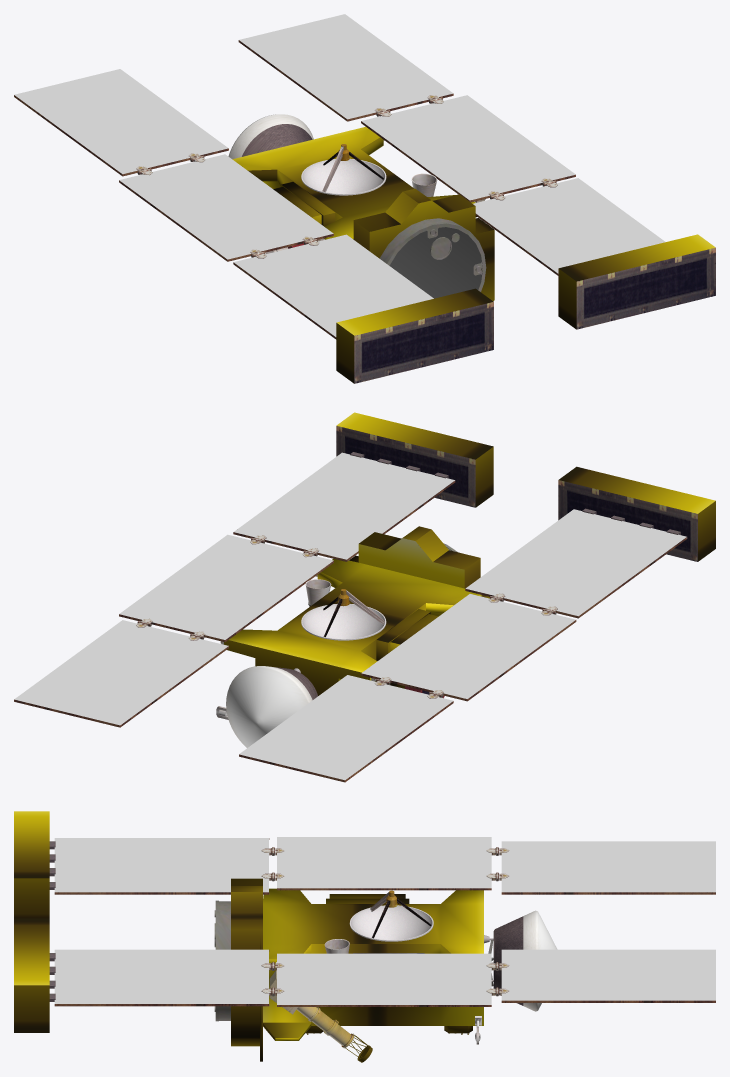
The model's file is Stardust capsule closed.glb.
3 renders of one model, top to bottom at view 1: azimuth 30°, elevation 25°; view 2: azimuth 150°, elevation 25°; view 3: azimuth 270°, elevation 25°, orthographic.
Parts seen in each view (by area): view 1: shiny_panels, Stardust_tex_01, gold_foil2, gold_foil, foil_silver, Stardust_tex_03, Stardust_tex_02, Stardust_tex_01_c, Stardust_tex_01_c2; view 2: shiny_panels, gold_foil, Stardust_tex_01, gold_foil2, Stardust_tex_01_c2, Stardust_tex_03; view 3: shiny_panels, gold_foil, gold_foil2, Stardust_tex_01, Stardust_tex_03, Stardust_tex_02, Stardust_tex_01_c, Stardust_tex_01_c2.
Part boxes in pixels (left/top/right/bottom): shiny_panels: left=14, top=14, right=665, bottom=336; Stardust_tex_01: left=14, top=40, right=715, bottom=383; gold_foil2: left=273, top=182, right=715, bottom=383; gold_foil: left=232, top=126, right=494, bottom=301; foil_silver: left=389, top=227, right=481, bottom=298; Stardust_tex_03: left=301, top=144, right=386, bottom=195; Stardust_tex_02: left=288, top=218, right=486, bottom=291; Stardust_tex_01_c: left=242, top=124, right=312, bottom=156; Stardust_tex_01_c2: left=228, top=114, right=313, bottom=159; shiny_panels: left=14, top=452, right=686, bottom=780; gold_foil: left=224, top=538, right=481, bottom=695; Stardust_tex_01: left=14, top=426, right=697, bottom=782; gold_foil2: left=336, top=412, right=715, bottom=660; Stardust_tex_01_c2: left=226, top=666, right=312, bottom=747; Stardust_tex_03: left=301, top=589, right=386, bottom=640; shiny_panels: left=54, top=837, right=715, bottom=1004; gold_foil: left=263, top=888, right=483, bottom=1040; gold_foil2: left=14, top=811, right=472, bottom=1062; Stardust_tex_01: left=49, top=838, right=715, bottom=1057; Stardust_tex_03: left=349, top=890, right=433, bottom=941; Stardust_tex_02: left=214, top=900, right=493, bottom=1048; Stardust_tex_01_c: left=493, top=916, right=523, bottom=1005; Stardust_tex_01_c2: left=523, top=910, right=557, bottom=1011.
Size of the model in its own units: 2.94 by 1.17 by 5.01.
Materials: 11 (9 with a texture image).
